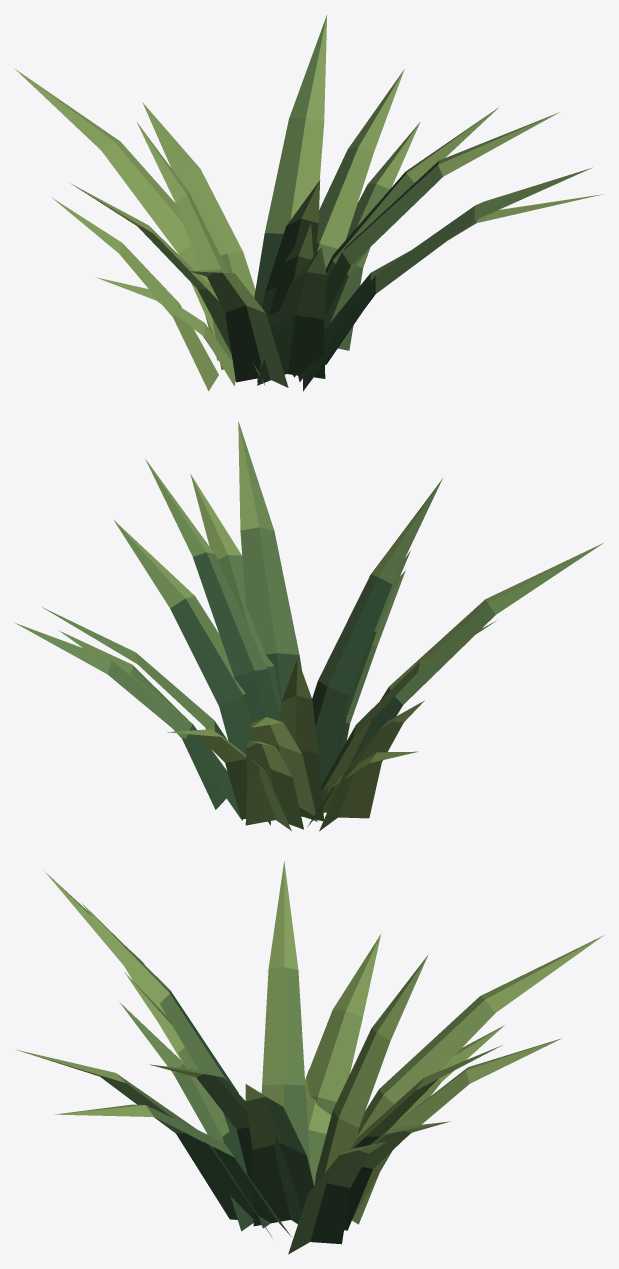
The model's file is grass.glb.
3 views of the same model, one above another, from view 1: azimuth 30°, elevation 25°; view 2: azimuth 150°, elevation 25°; view 3: azimuth 270°, elevation 25° (orthographic). The views are drawn at different scales.
Visible parts, largest first — view 1: grass.002; view 2: grass.002; view 3: grass.002.
Boxes of the visible parts, x1,y1,x2,y2 form: grass.002: (15,14,602,391); grass.002: (15,421,603,831); grass.002: (16,861,603,1254).
Bounding box in the file's own units: 0.6123 × 0.38 × 0.7011.
